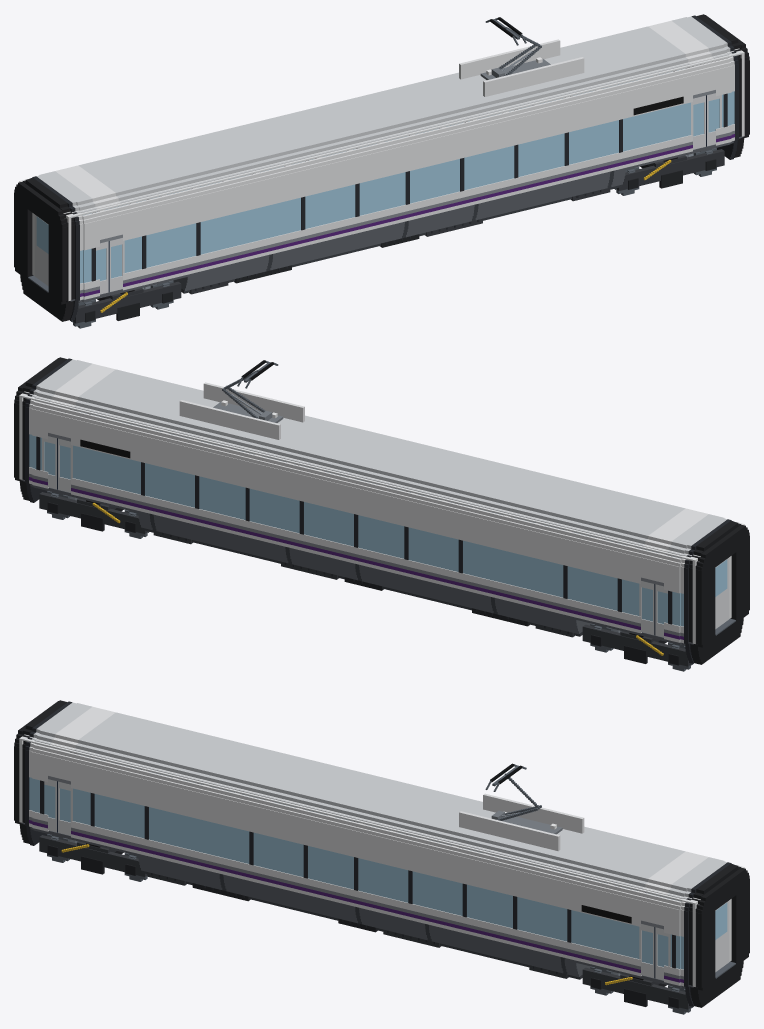
The model's file is tgv_inoui_car.obj.
The picture shows the model from 3 angles, top to bottom: view 1: azimuth 30°, elevation 25°; view 2: azimuth 150°, elevation 25°; view 3: azimuth 330°, elevation 25°; orthographic projection.
Visible parts, largest first — view 1: SHELL, SHELL_diaphragm, SHELL_pantograph, SHELL_ceiling, BOGEY_REAR, BOGEY_FRONT, FRAME, CONNECTING_DOOR_1_CG_CR_TOGGLE_TL_0.98_Z, SHELL_end, EXTERNAL_DOOR_5_CG_DR1_TOGGLE_TL_0.44_X, EXTERNAL_DOOR_10_CG_DR2_TOGGLE_TL_-0.44_X, EXTERNAL_DOOR_11_CG_DR2_TOGGLE_TL_0.44_X (+1 smaller); view 2: SHELL, SHELL_diaphragm, SHELL_pantograph, SHELL_ceiling, BOGEY_REAR, BOGEY_FRONT, FRAME, CONNECTING_DOOR_1_CG_CR_TOGGLE_TL_0.98_Z, SHELL_end, EXTERNAL_DOOR_8_CG_DL1_TOGGLE_TL_0.44_X, EXTERNAL_DOOR_13_CG_DL2_TOGGLE_TL_-0.44_X, EXTERNAL_DOOR_14_CG_DL2_TOGGLE_TL_0.44_X (+1 smaller); view 3: SHELL, SHELL_diaphragm, SHELL_pantograph, SHELL_ceiling, BOGEY_FRONT, BOGEY_REAR, FRAME, CONNECTING_DOOR_2_CG_CF_TOGGLE_TL_0.98_Z, SHELL_end, EXTERNAL_DOOR_10_CG_DR2_TOGGLE_TL_-0.44_X, EXTERNAL_DOOR_5_CG_DR1_TOGGLE_TL_0.44_X, EXTERNAL_DOOR_11_CG_DR2_TOGGLE_TL_0.44_X (+1 smaller).
Part boxes in pixels (x1=…): SHELL: x1=20, y1=14, x2=745, y2=321; SHELL_diaphragm: x1=14, y1=15, x2=749, y2=304; SHELL_pantograph: x1=459, y1=17, x2=584, y2=96; SHELL_ceiling: x1=21, y1=49, x2=742, y2=217; BOGEY_REAR: x1=73, y1=281, x2=181, y2=323; BOGEY_FRONT: x1=616, y1=149, x2=724, y2=190; FRAME: x1=189, y1=187, x2=610, y2=294; CONNECTING_DOOR_1_CG_CR_TOGGLE_TL_0.98_Z: x1=34, y1=214, x2=48, y2=286; SHELL_end: x1=19, y1=48, x2=744, y2=300; EXTERNAL_DOOR_5_CG_DR1_TOGGLE_TL_0.44_X: x1=109, y1=238, x2=124, y2=291; EXTERNAL_DOOR_10_CG_DR2_TOGGLE_TL_-0.44_X: x1=691, y1=95, x2=706, y2=149; EXTERNAL_DOOR_11_CG_DR2_TOGGLE_TL_0.44_X: x1=707, y1=93, x2=721, y2=146; SHELL: x1=18, y1=357, x2=743, y2=664; SHELL_diaphragm: x1=14, y1=358, x2=749, y2=647; SHELL_pantograph: x1=179, y1=360, x2=304, y2=439; SHELL_ceiling: x1=21, y1=392, x2=742, y2=560; BOGEY_REAR: x1=582, y1=624, x2=690, y2=666; BOGEY_FRONT: x1=39, y1=492, x2=147, y2=533; FRAME: x1=153, y1=530, x2=574, y2=637; CONNECTING_DOOR_1_CG_CR_TOGGLE_TL_0.98_Z: x1=715, y1=557, x2=729, y2=629; SHELL_end: x1=19, y1=391, x2=744, y2=643; EXTERNAL_DOOR_8_CG_DL1_TOGGLE_TL_0.44_X: x1=639, y1=581, x2=654, y2=634; EXTERNAL_DOOR_13_CG_DL2_TOGGLE_TL_-0.44_X: x1=57, y1=438, x2=72, y2=492; EXTERNAL_DOOR_14_CG_DL2_TOGGLE_TL_0.44_X: x1=42, y1=436, x2=56, y2=489; SHELL: x1=18, y1=700, x2=743, y2=1007; SHELL_diaphragm: x1=14, y1=701, x2=749, y2=990; SHELL_pantograph: x1=459, y1=763, x2=584, y2=851; SHELL_ceiling: x1=21, y1=735, x2=742, y2=903; BOGEY_FRONT: x1=582, y1=967, x2=690, y2=1009; BOGEY_REAR: x1=39, y1=835, x2=147, y2=876; FRAME: x1=147, y1=872, x2=568, y2=978; CONNECTING_DOOR_2_CG_CF_TOGGLE_TL_0.98_Z: x1=715, y1=900, x2=729, y2=972; SHELL_end: x1=19, y1=734, x2=744, y2=986; EXTERNAL_DOOR_10_CG_DR2_TOGGLE_TL_-0.44_X: x1=639, y1=924, x2=655, y2=978; EXTERNAL_DOOR_5_CG_DR1_TOGGLE_TL_0.44_X: x1=58, y1=781, x2=72, y2=835; EXTERNAL_DOOR_11_CG_DR2_TOGGLE_TL_0.44_X: x1=655, y1=927, x2=670, y2=980.
Bounding box in the file's own units: 22.17 × 5.68 × 2.92.
Materials: 1 (1 with a texture image).
